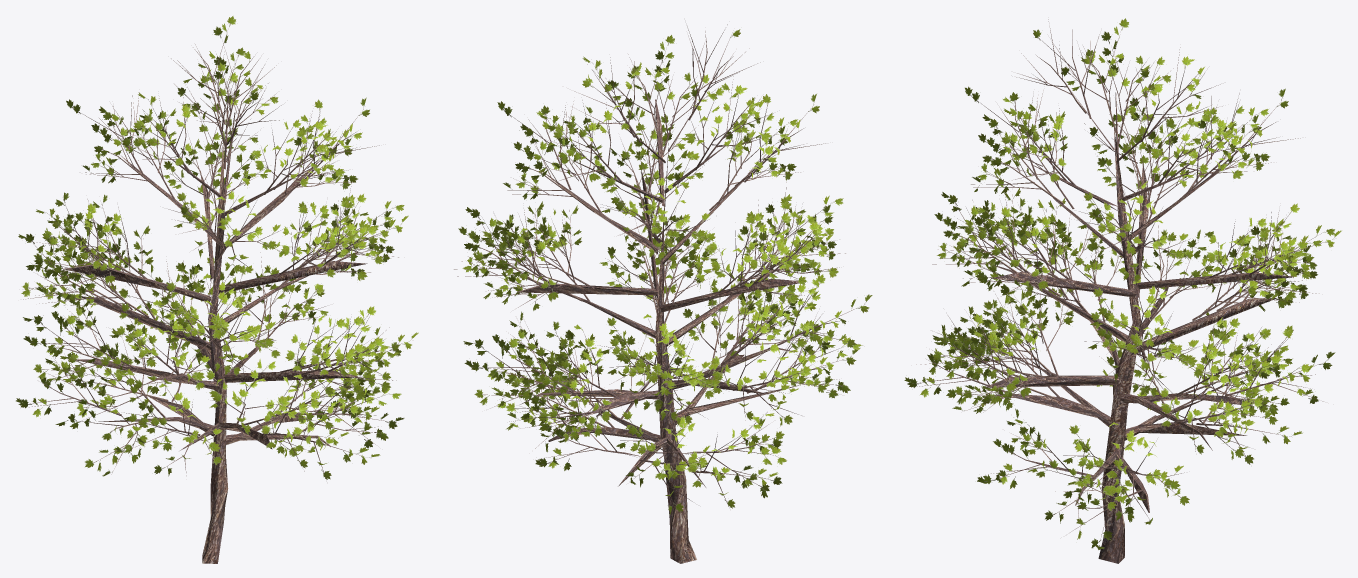
The model's file is maple-far.glb.
3 renders of one model, left to right at view 1: azimuth 30°, elevation 25°; view 2: azimuth 150°, elevation 25°; view 3: azimuth 270°, elevation 25°, orthographic. The views are drawn at different scales.
Parts seen in each view (by area): view 1: Tree_1_Tree_1Mat_0, Tree_0_Tree_0Mat_0; view 2: Tree_1_Tree_1Mat_0, Tree_0_Tree_0Mat_0; view 3: Tree_1_Tree_1Mat_0, Tree_0_Tree_0Mat_0.
Part boxes in pixels (x1,y1,x2,y2): Tree_1_Tree_1Mat_0: (16, 16, 418, 479); Tree_0_Tree_0Mat_0: (23, 37, 401, 563); Tree_1_Tree_1Mat_0: (458, 29, 872, 514); Tree_0_Tree_0Mat_0: (454, 24, 858, 563); Tree_1_Tree_1Mat_0: (904, 18, 1341, 549); Tree_0_Tree_0Mat_0: (915, 19, 1325, 563).
Size of the model in its own units: 7.88 by 10.38 by 7.73.
Materials: 2 (2 with a texture image).
